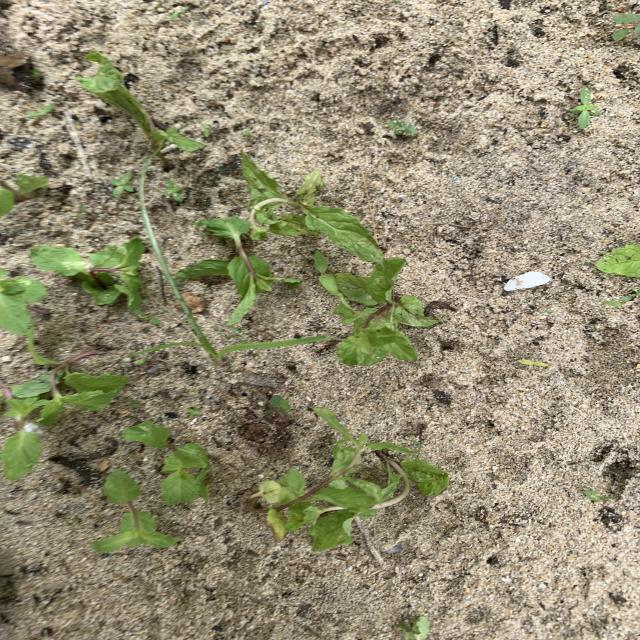crop: (251, 408, 448, 551), (241, 153, 384, 263), (177, 217, 301, 325), (334, 258, 456, 365), (75, 51, 204, 152), (11, 342, 128, 424), (30, 238, 145, 309), (92, 470, 180, 553), (123, 421, 209, 505), (0, 385, 47, 480), (0, 270, 46, 335), (0, 174, 48, 217), (596, 244, 640, 278)
weed: (139, 156, 331, 360), (570, 86, 601, 130), (314, 251, 340, 296), (397, 616, 430, 640), (612, 13, 640, 41), (19, 103, 59, 122), (604, 288, 640, 307), (110, 172, 135, 197), (266, 395, 290, 421), (163, 179, 184, 205), (75, 206, 98, 229), (582, 488, 612, 504), (132, 309, 160, 325), (194, 123, 217, 138), (518, 359, 550, 369), (170, 6, 189, 20), (186, 407, 202, 421), (240, 129, 252, 137)
